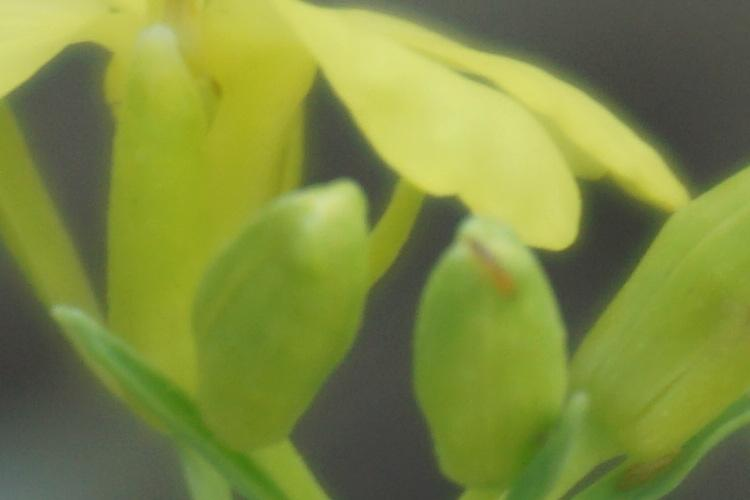bud: (408, 218, 588, 484), (215, 197, 372, 455)
yellow: (8, 1, 693, 251)
